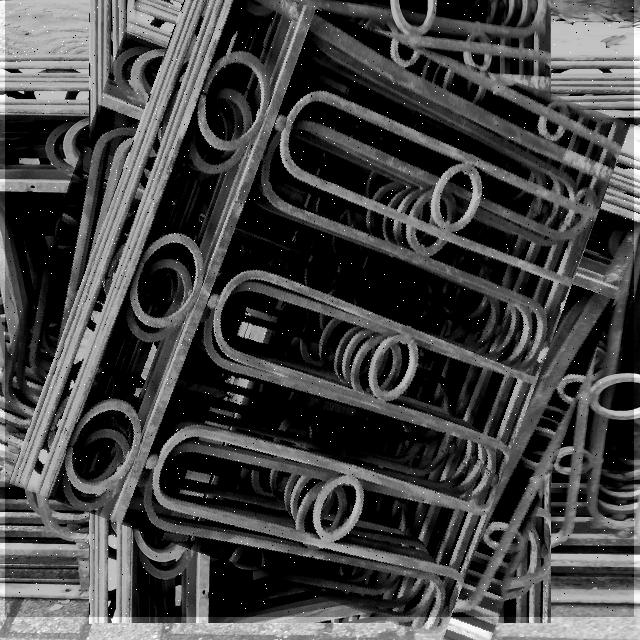fences: (5, 0, 634, 617)
